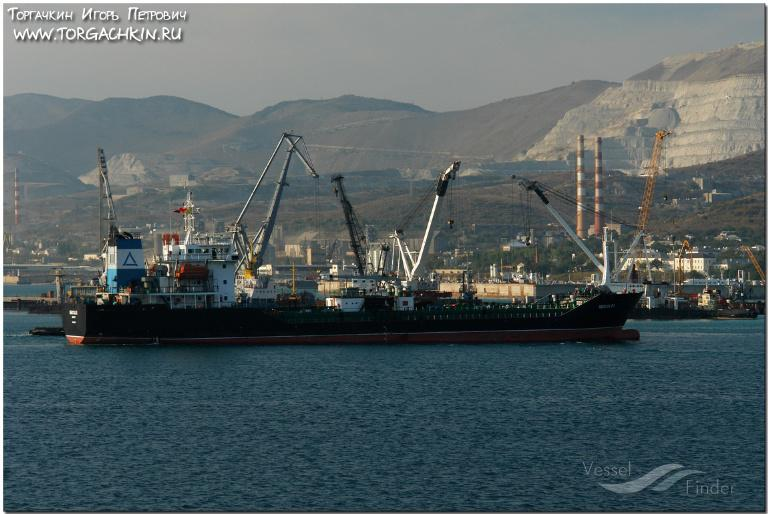OCR: (68, 309, 80, 327)
